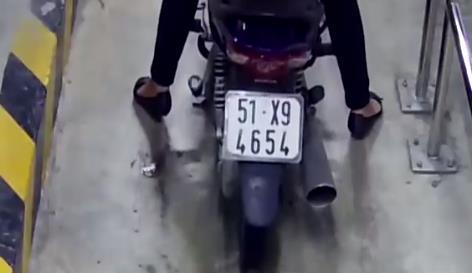lisence: (223, 90, 301, 164)
